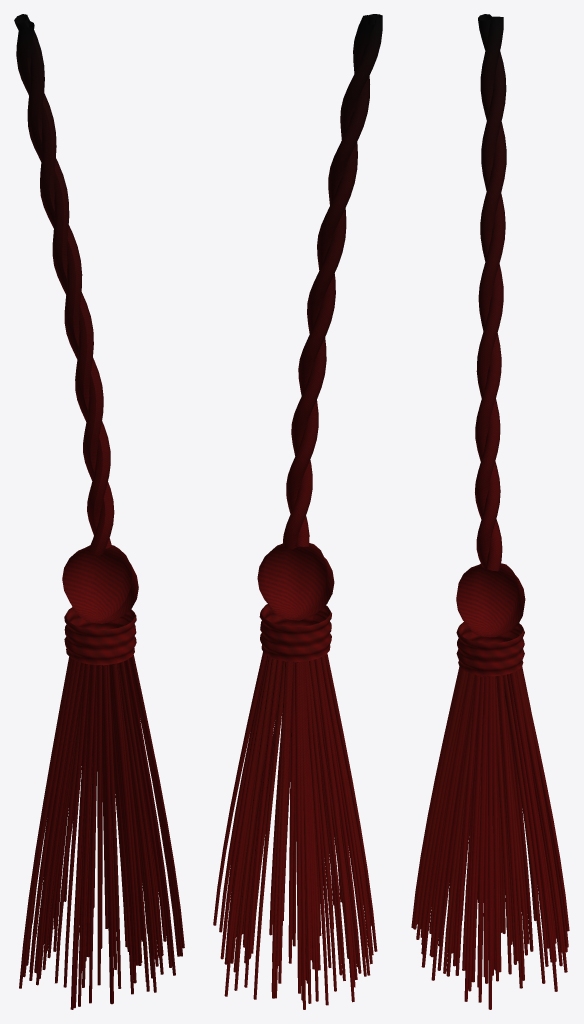
Rendered from tassel.opt.glb.
3 views of the same model, side by side, from view 1: azimuth 30°, elevation 25°; view 2: azimuth 150°, elevation 25°; view 3: azimuth 270°, elevation 25° (orthographic). The views are drawn at different scales.
Parts seen in each view (by area): view 1: Tassel; view 2: Tassel; view 3: Tassel.
Part boxes in pixels (x1=…): Tassel: x1=14, y1=14, x2=184, y2=1009; Tassel: x1=213, y1=14, x2=382, y2=1009; Tassel: x1=411, y1=14, x2=569, y2=1009.
Size of the model in its own units: 0.062 by 0.3699 by 0.0571.
1 material, 1 textured.
